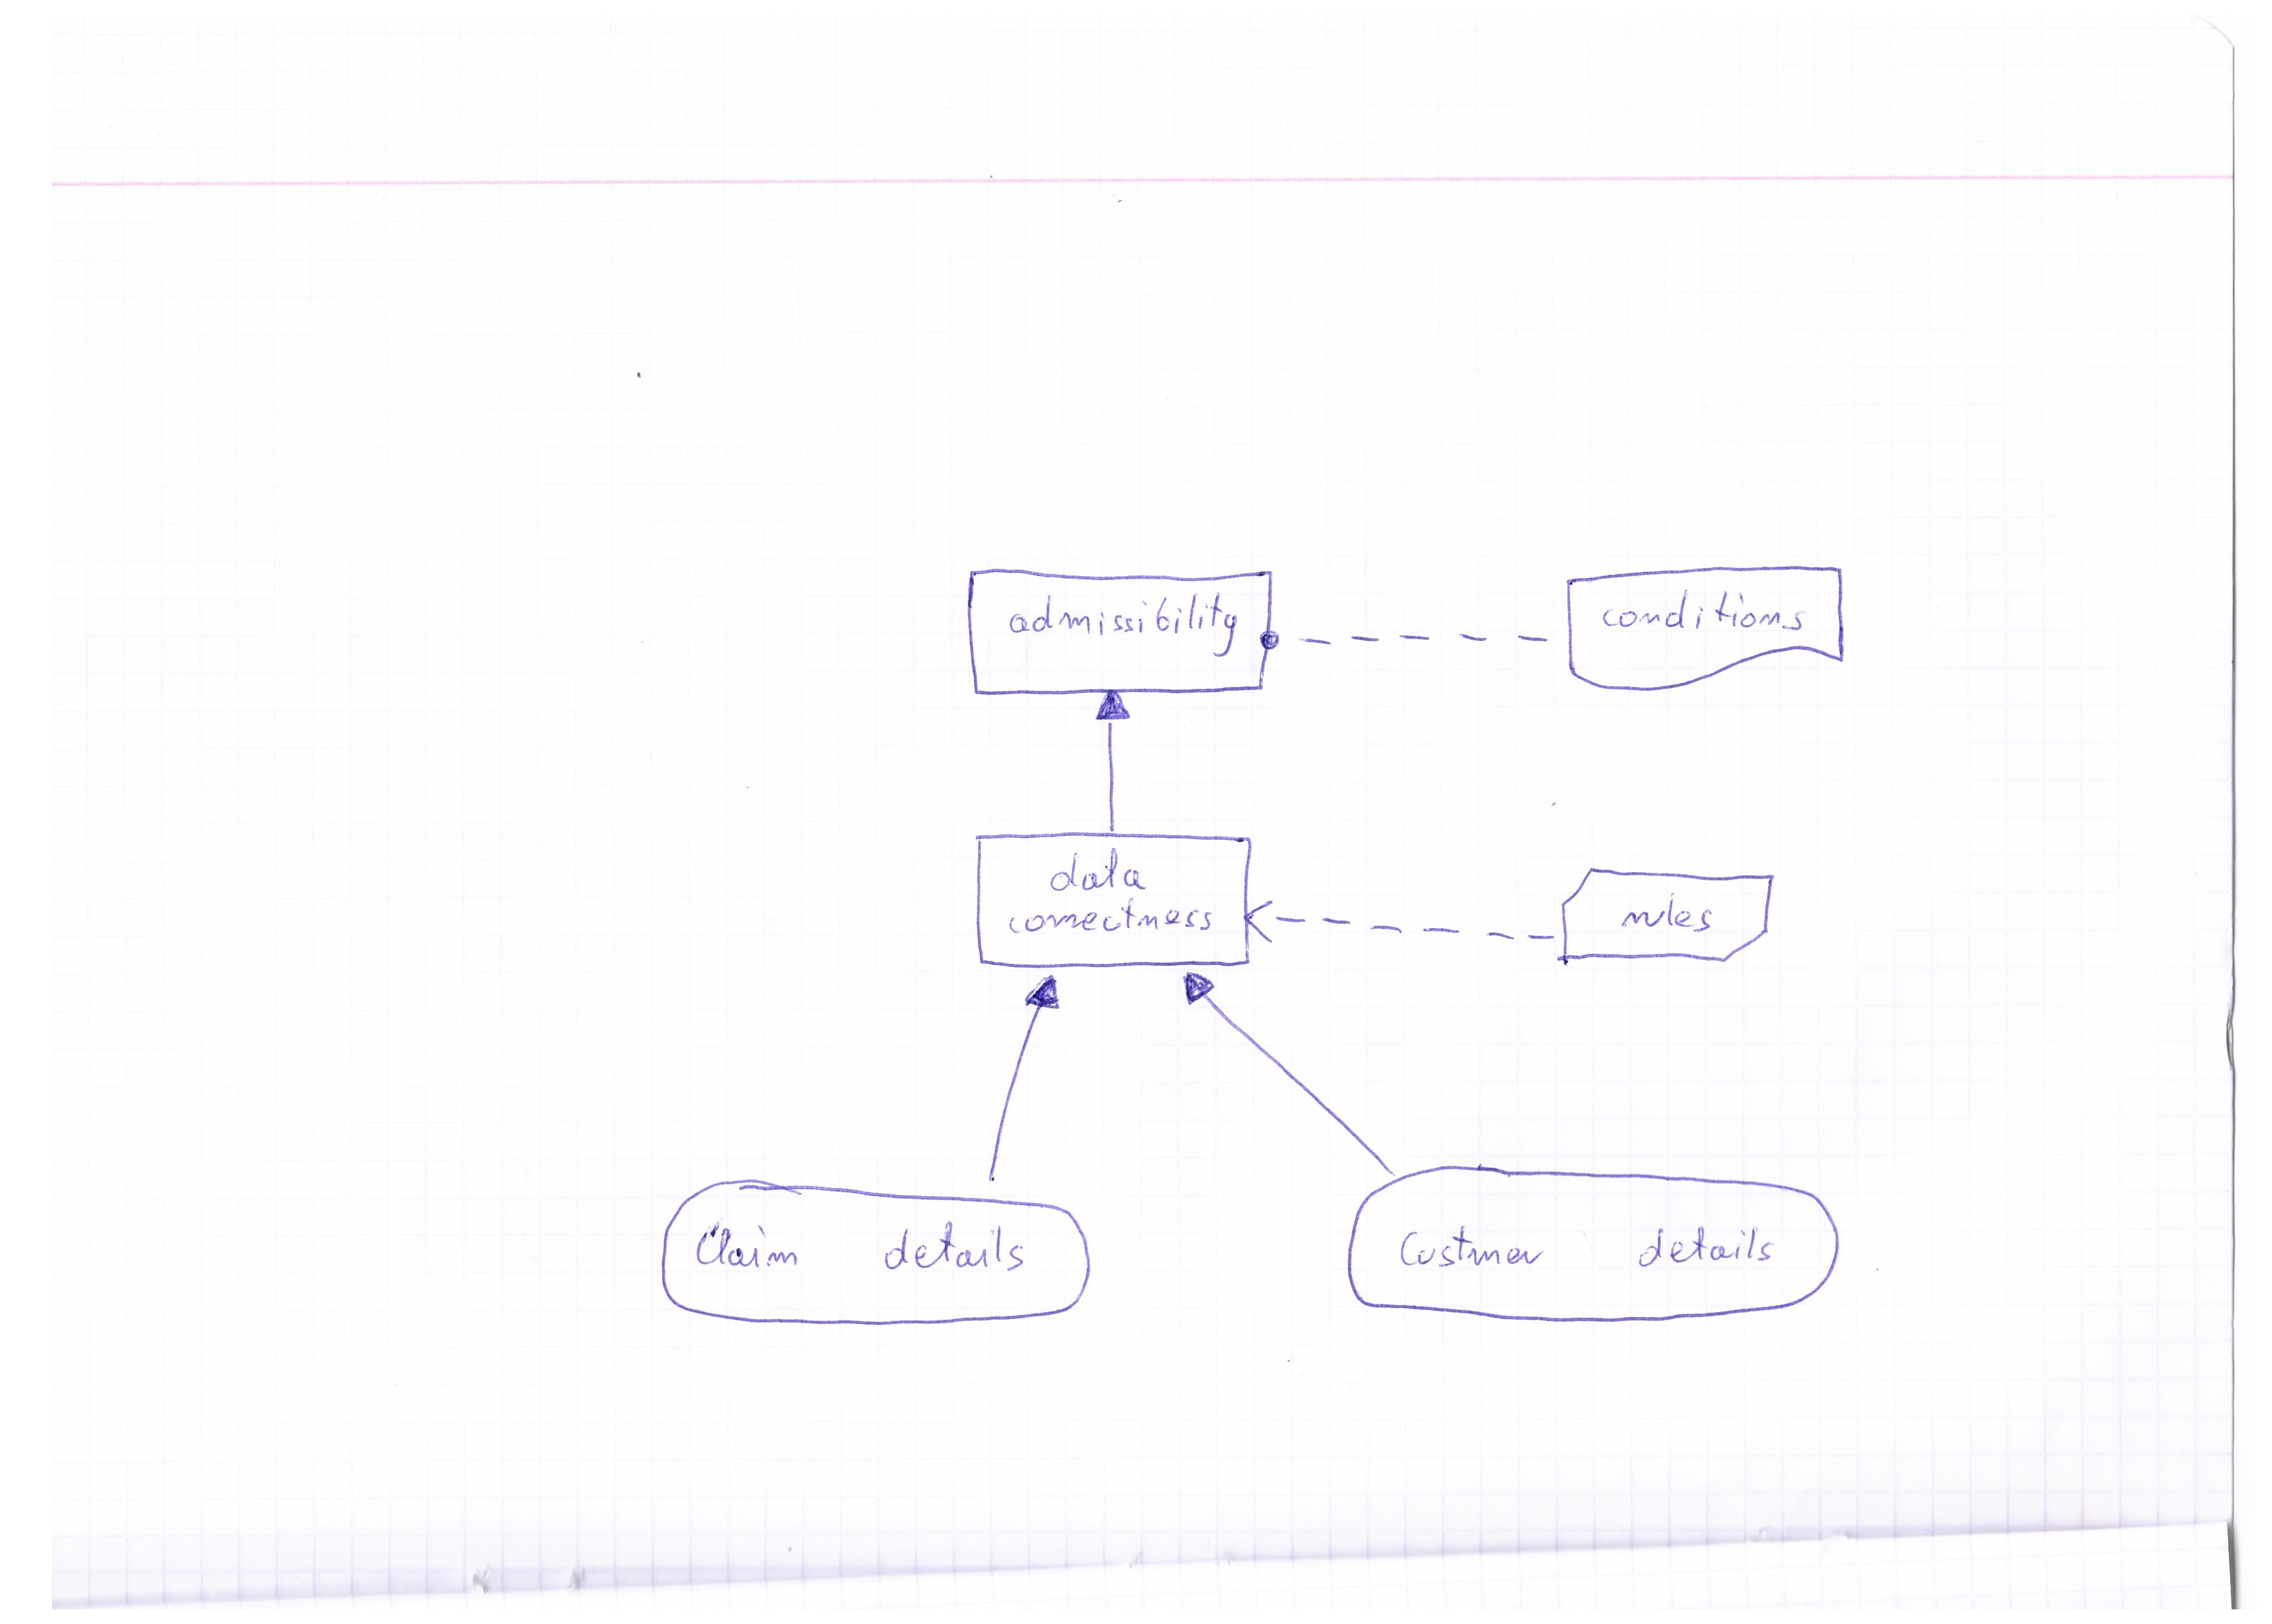arrow_authority_requirement: (1251, 624, 1562, 656)
arrow_information_requirement: (1163, 968, 1400, 1178), (959, 972, 1070, 1179), (1093, 682, 1137, 835)
arrow_knowledge_requirement: (1246, 889, 1557, 956)
node_decision: (954, 564, 1274, 698), (966, 823, 1251, 970)
node_input_data: (1332, 1162, 1856, 1329), (643, 1171, 1100, 1345)
node_knowledge_model: (1553, 863, 1787, 975)
node_knowledge_source: (1559, 568, 1850, 705)
text: (1393, 1216, 1794, 1288), (682, 1214, 1035, 1290), (991, 845, 1225, 946), (989, 582, 1248, 661), (1588, 584, 1815, 643), (1604, 881, 1724, 947)
